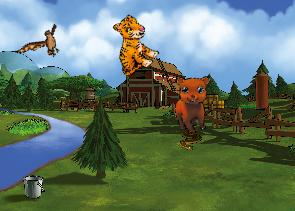bear: (168, 71, 220, 136)
eagle: (14, 14, 71, 73)
tiger: (97, 11, 165, 81)
